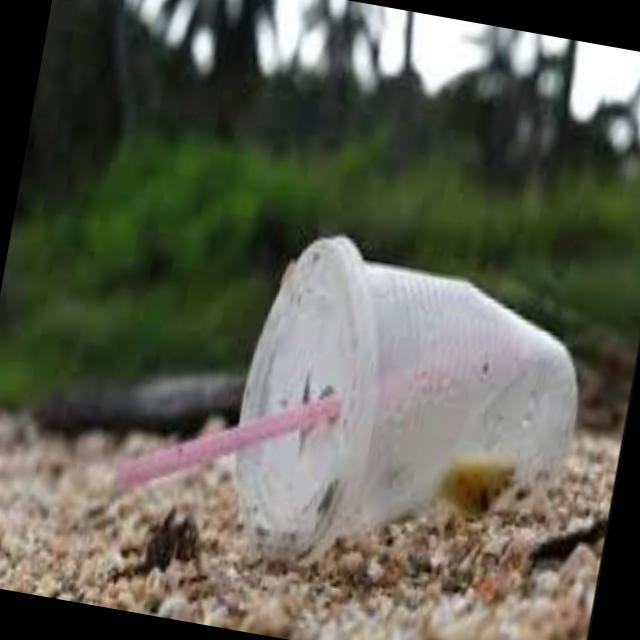GelasPlastik: (212, 220, 602, 610)
